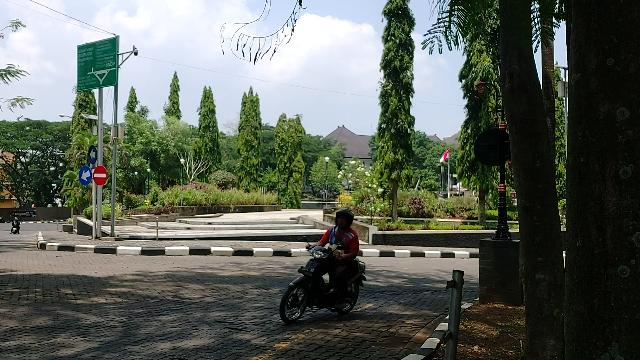helm: (336, 209, 357, 231)
motor: (280, 235, 369, 326)
